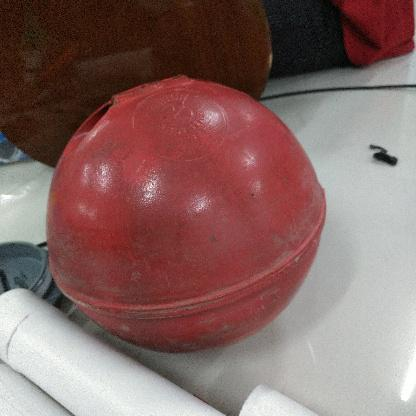red_buoy: (44, 67, 329, 350)
